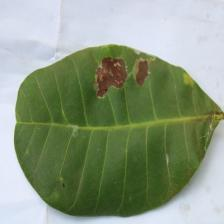leaf miner: (13, 43, 223, 217), (93, 56, 128, 98)
